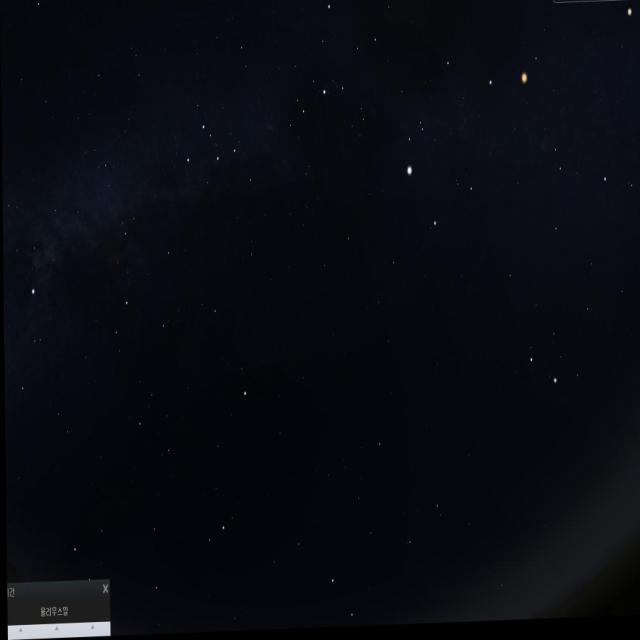cassiopeia: (167, 104, 258, 208)
